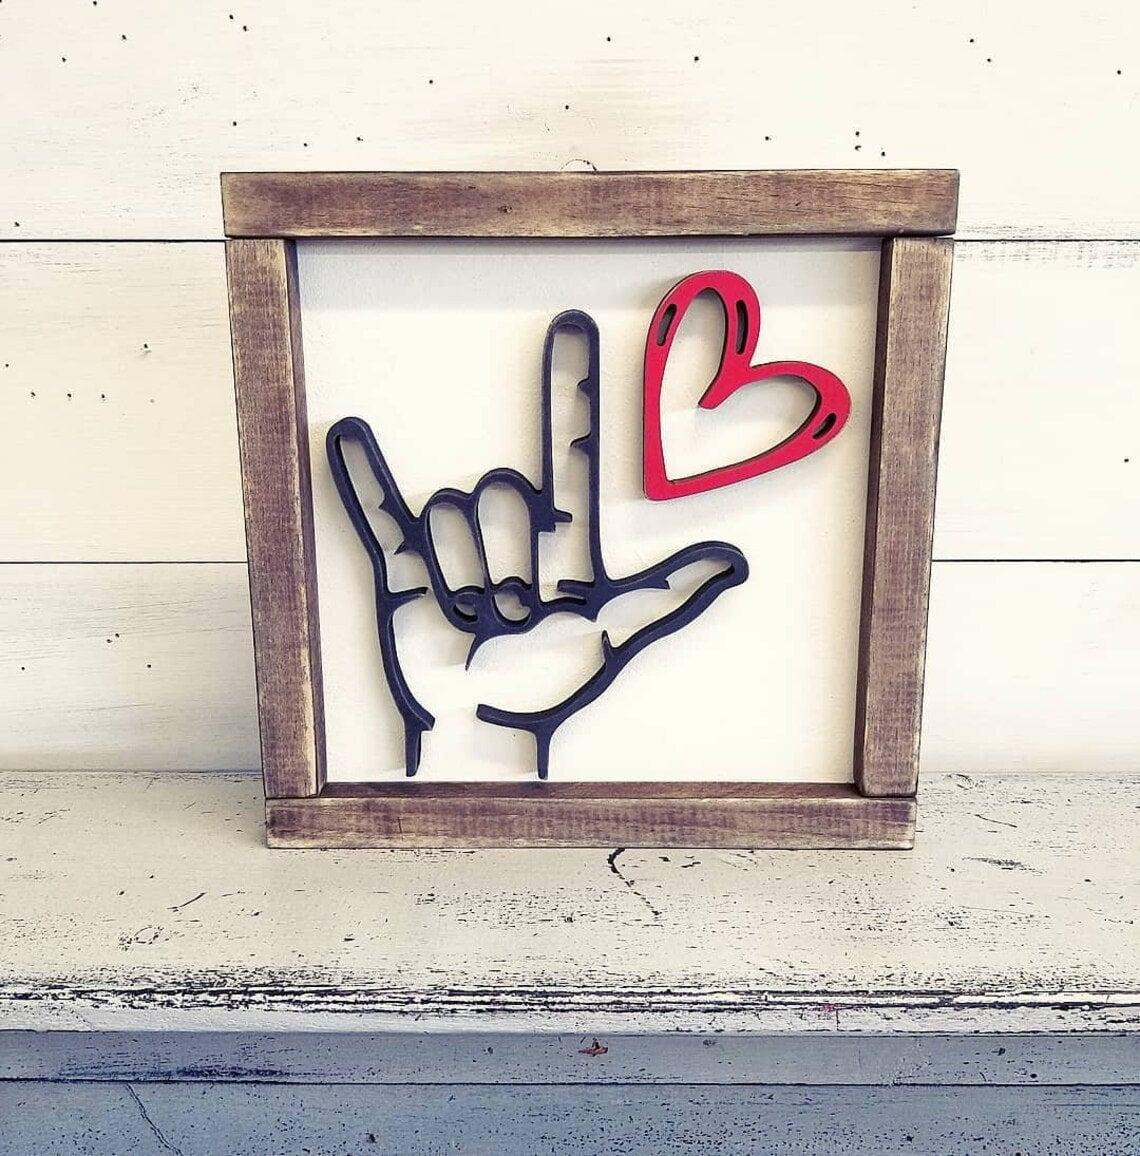Love_you: (281, 292, 760, 810)
